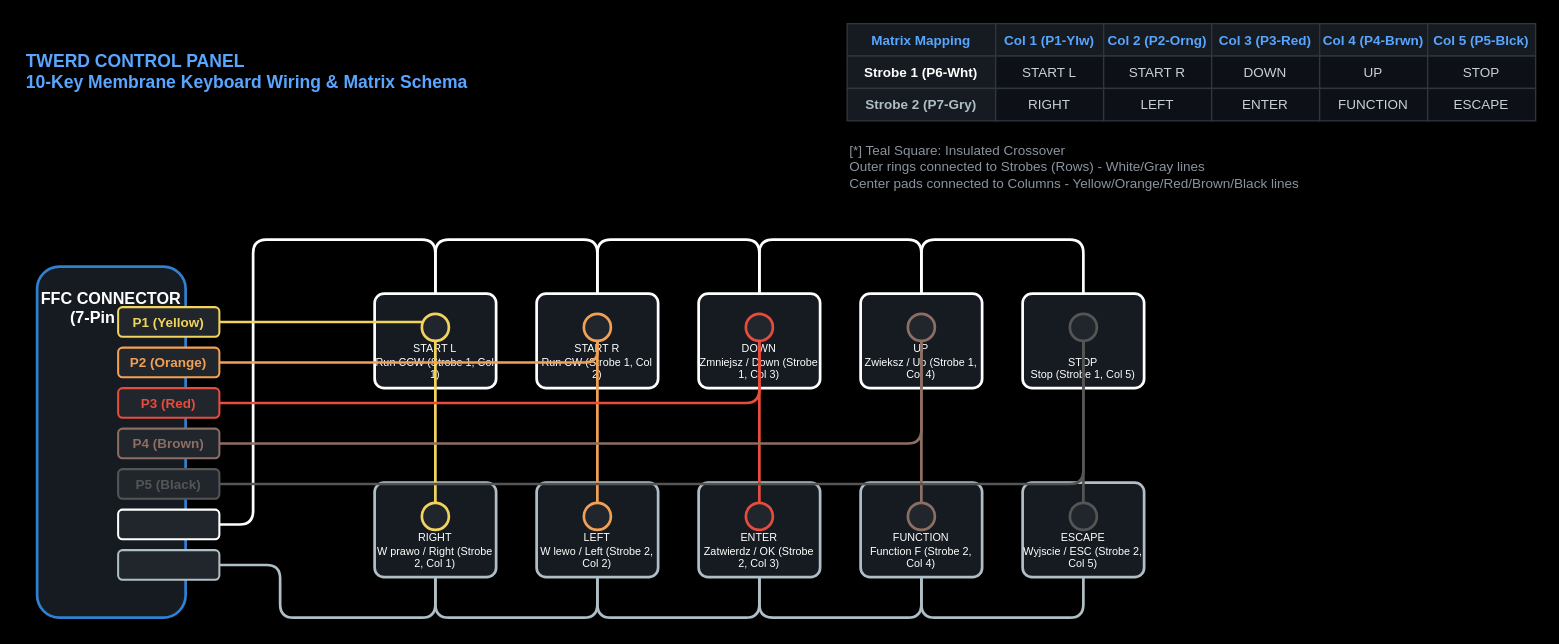
Image size: 1559x644. Some labels were removed from this diagram. The centre of each missing label's shape, as x and y in pixels:
P6 (White): (168,524)
P7 (Gray): (168,564)
